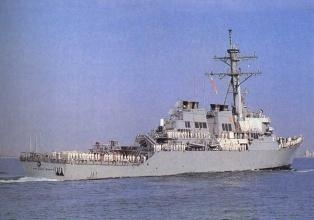warship: (18, 31, 305, 180)
